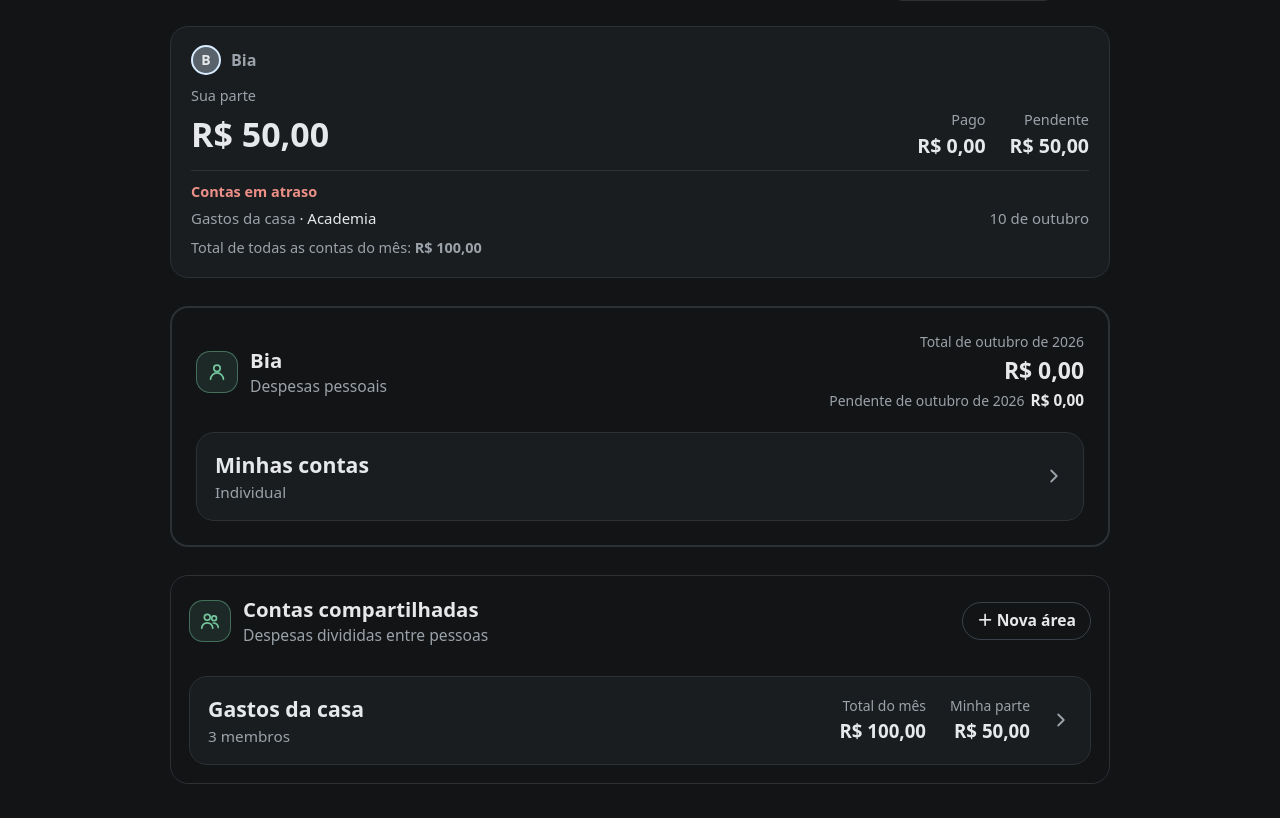
Test: M6: base da nova versão em "esta e as seguintes" › sem divergência o bloco some; uma edição faz ele aparecer, sem a menção à marca
Click the button "Minhas contas Individual".
click(292, 464)  # box [197,433,1083,520]
(page scrolled)
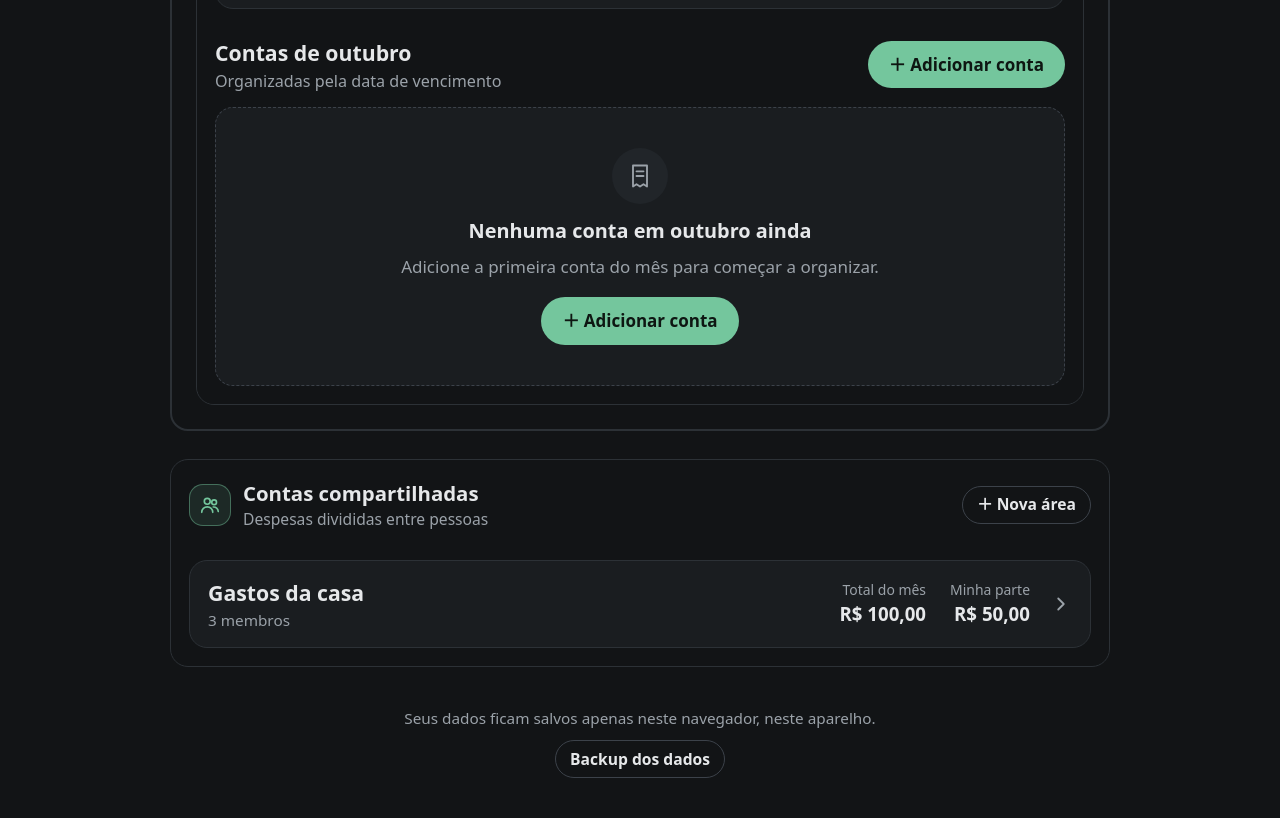
Click the button that starts with "Gastos da casa".
click(286, 592)  # box [190,561,1090,647]
(page scrolled)
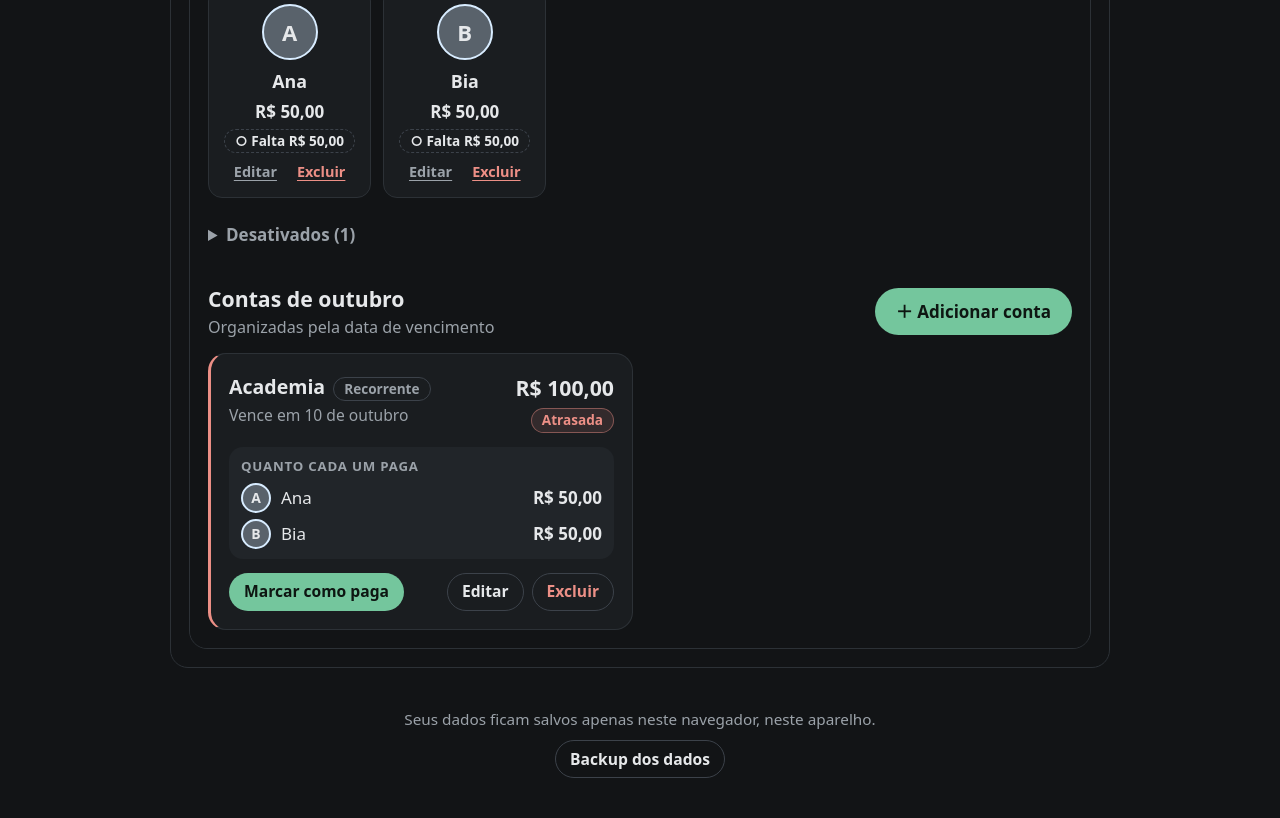
Click the button with aria-label "Editar a conta Academia".
click(485, 592)  # box [447,572,524,610]
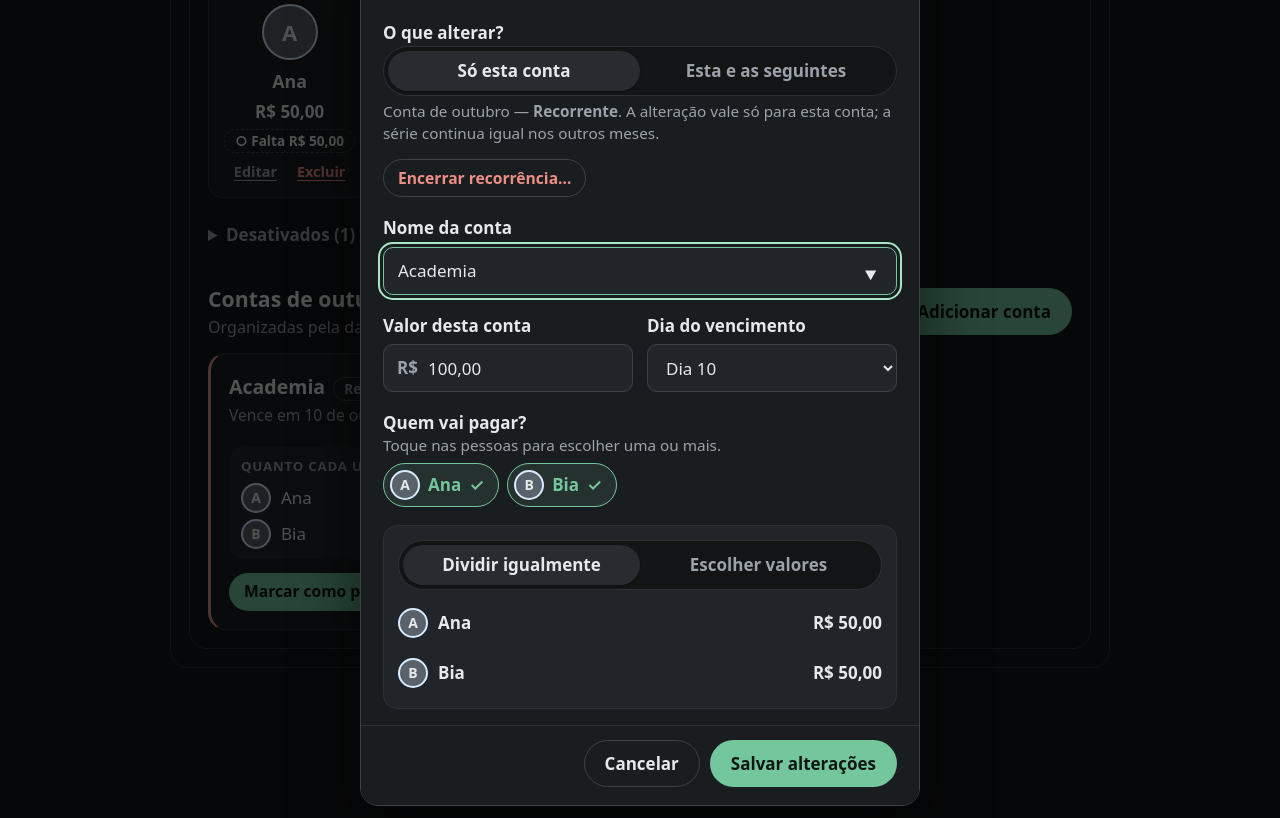
Click the button "Esta e as seguintes".
click(766, 70)  # box [640,50,892,90]
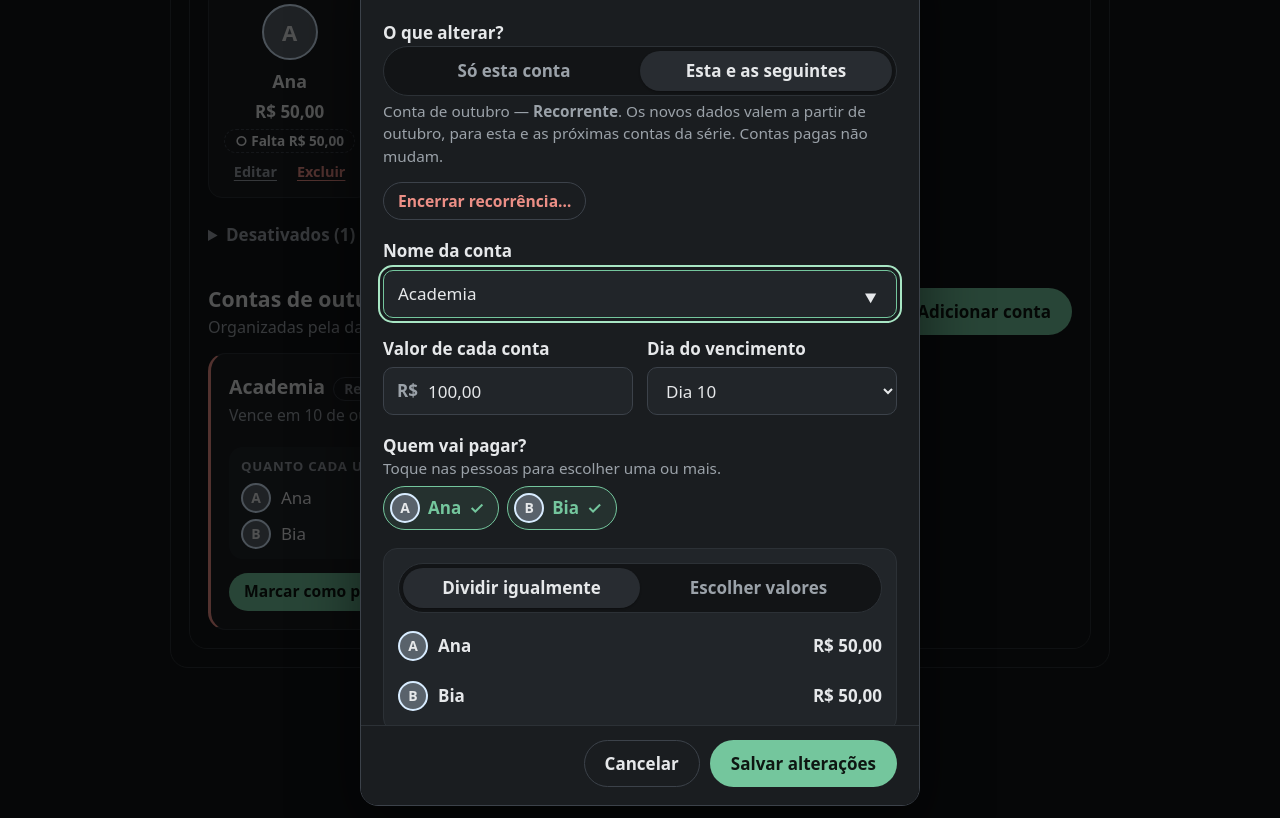
Replace the text in the field labelled "Valor de cada conta" with "95,00" at (508, 391), box [383,367,633,415]
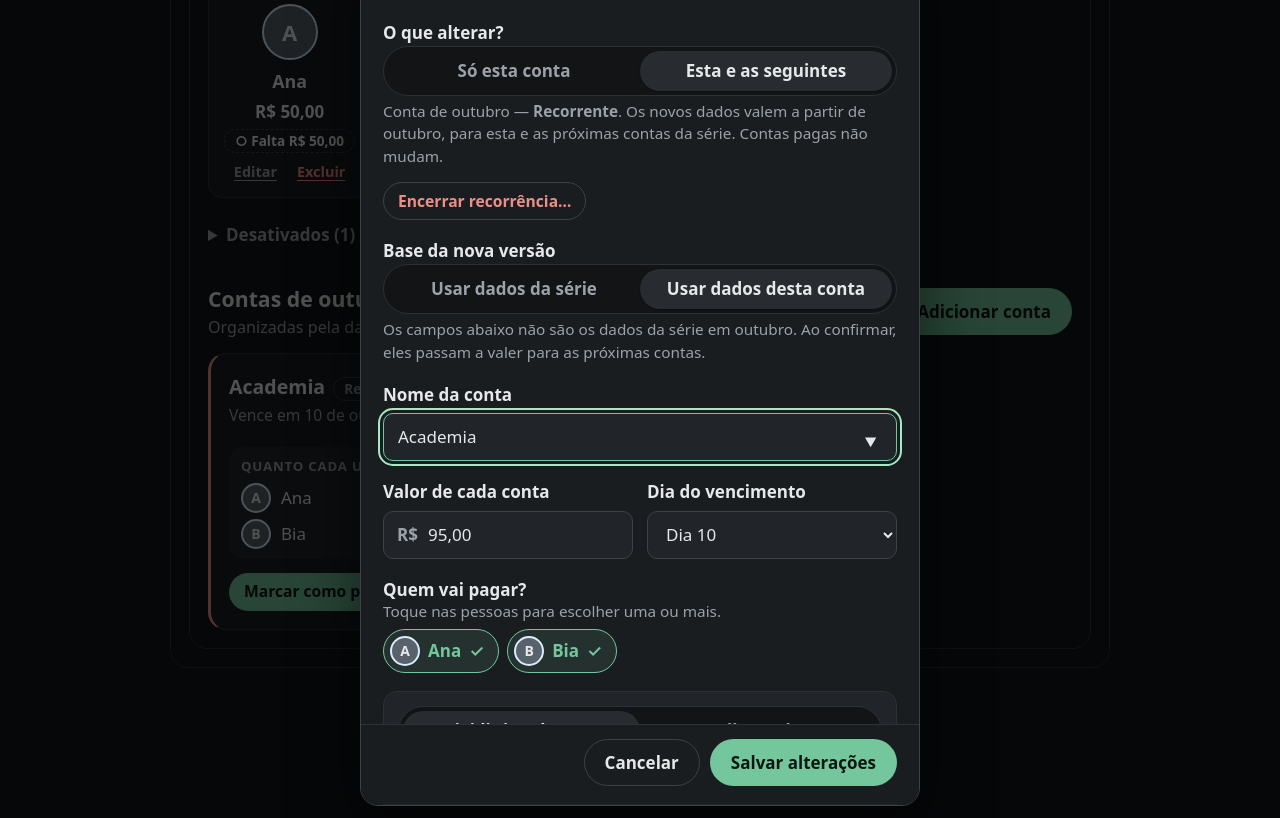
Now the element "Base da nova versão" is shown, box [383,238,897,364]
